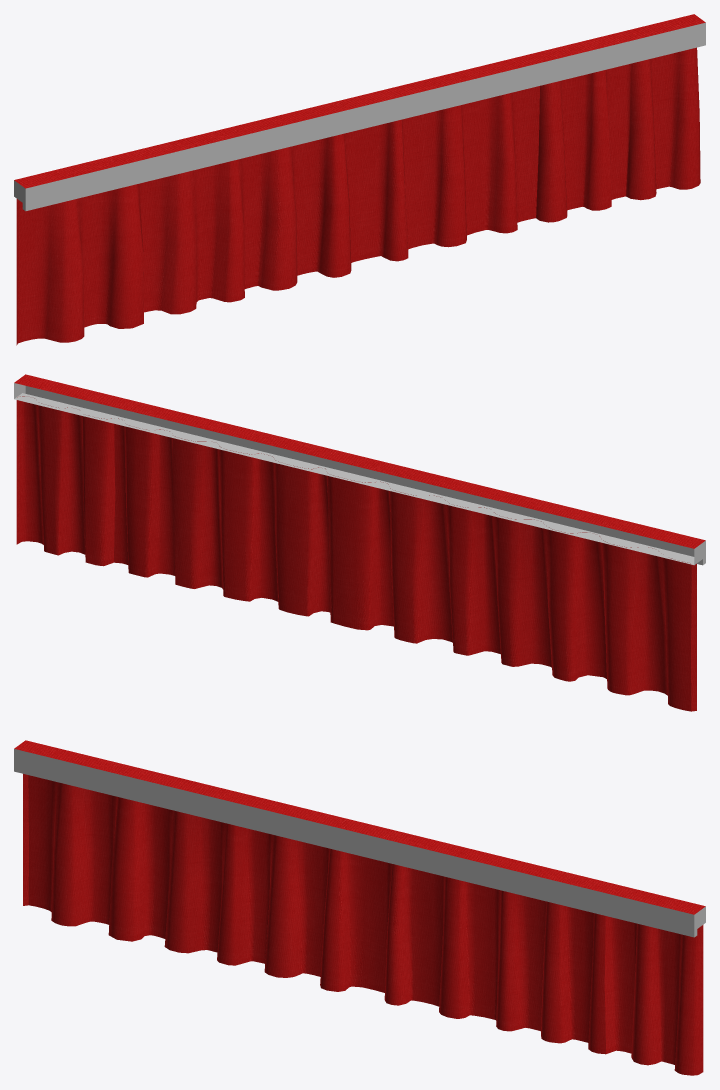
Rendered from WallCurtain01_350x80cm.FBX.
3 renders of one model, top to bottom at view 1: azimuth 30°, elevation 25°; view 2: azimuth 150°, elevation 25°; view 3: azimuth 330°, elevation 25°, orthographic.
Parts seen in each view (by area): view 1: WallCurtain01_350x80cm; view 2: WallCurtain01_350x80cm; view 3: WallCurtain01_350x80cm.
Boxes of the visible parts, box(x1,y1,x2,y2) form: WallCurtain01_350x80cm: box(14, 14, 705, 345); WallCurtain01_350x80cm: box(14, 374, 705, 711); WallCurtain01_350x80cm: box(14, 740, 705, 1075).
Bounding box in the file's own units: 3500 × 806 × 123.
